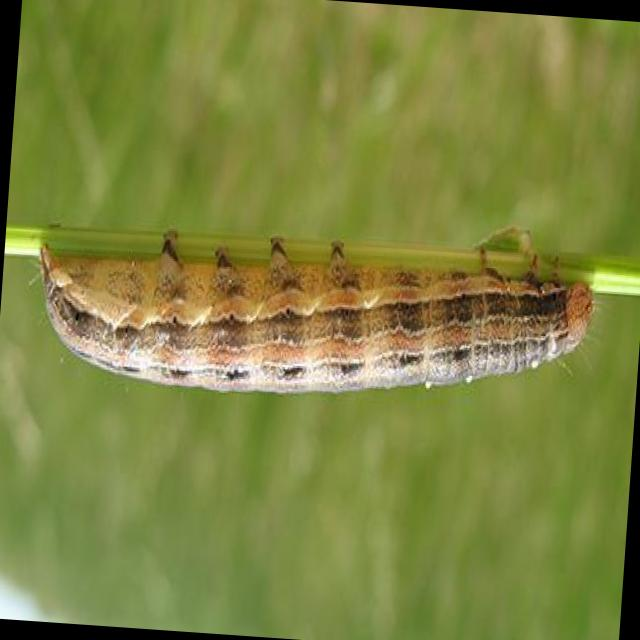armyworm: (21, 192, 610, 437)
